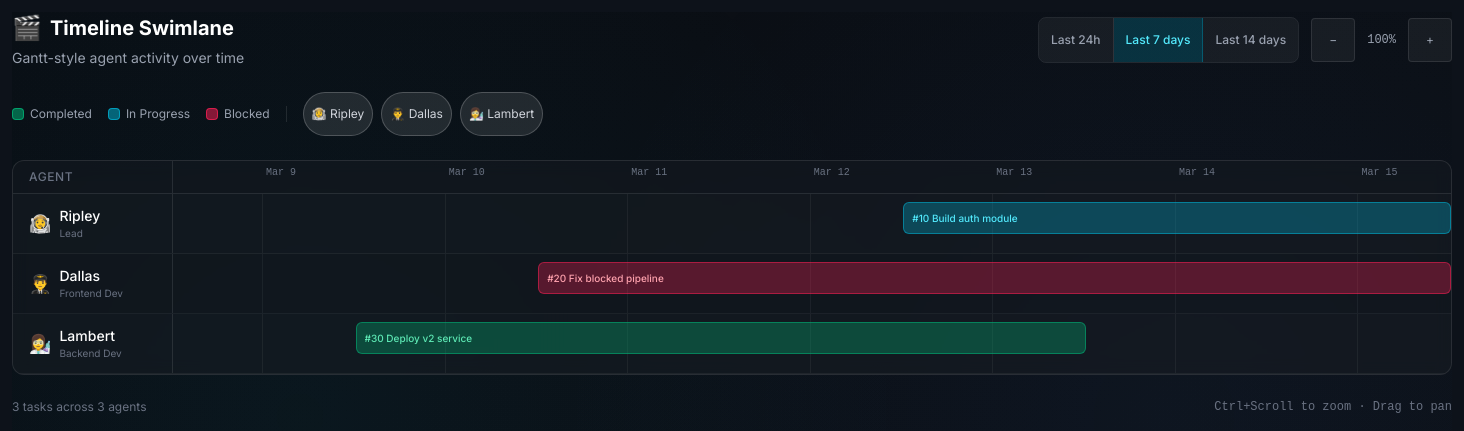
Test: TimelineSwimlane › zooms in on button click
Click the button titled "Zoom in" at (1430, 40), box [1408,18,1452,62]
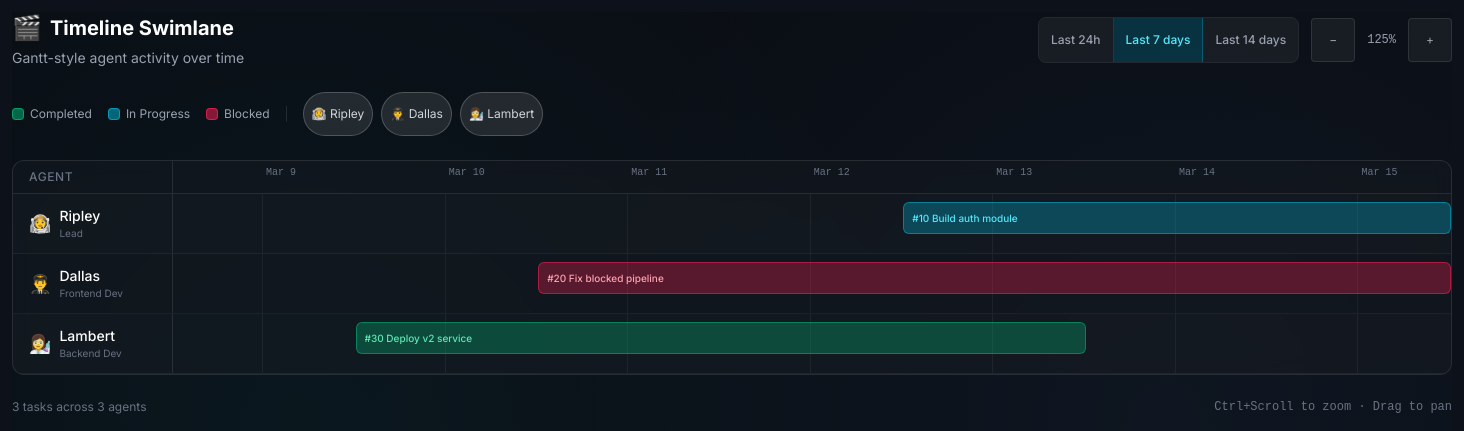
Now the text "125%" is shown, box [1367,33,1396,47]
